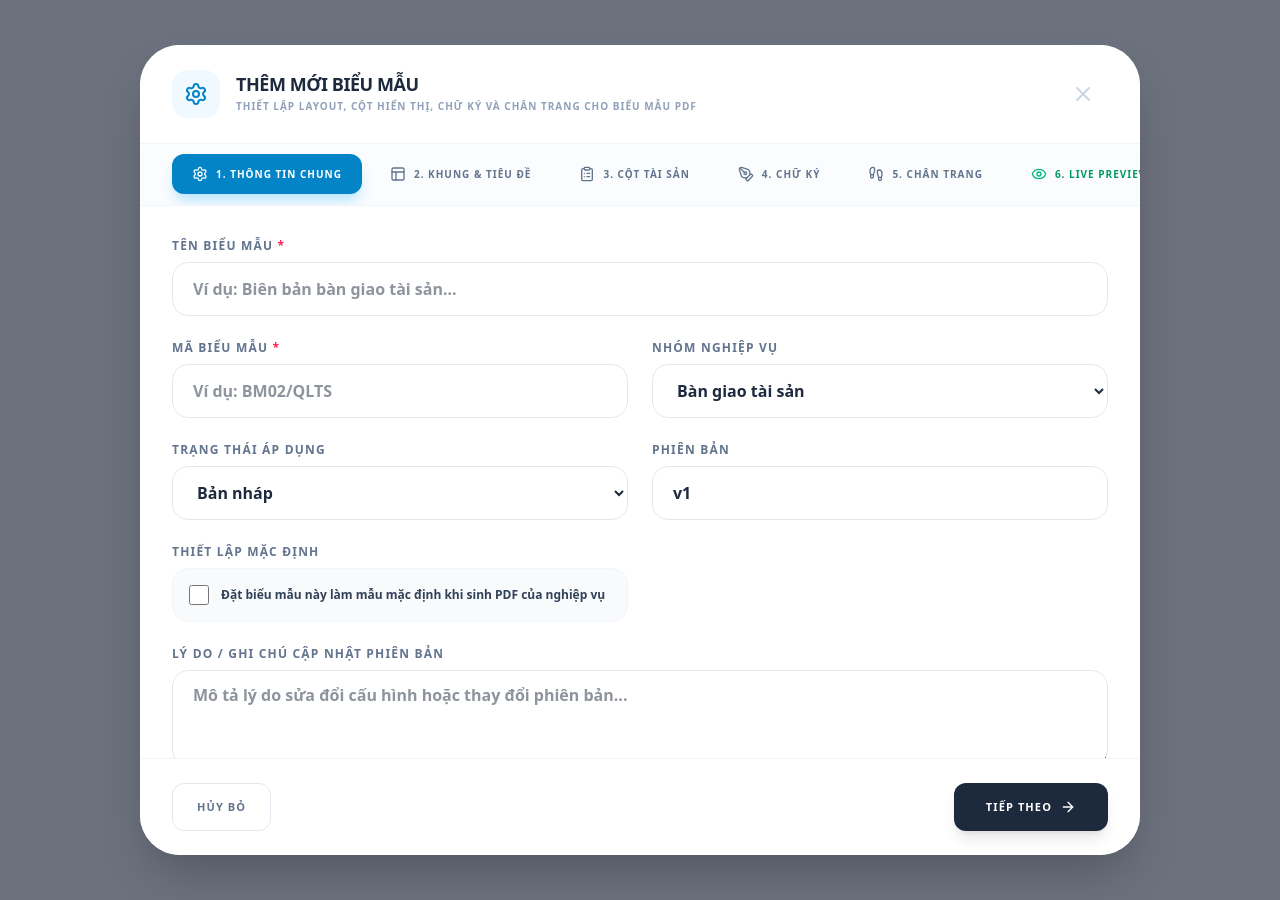
Test: TemplateConfigModal › can navigate through tabs
Click Tab 2
Click the button "2. Khung & Tiêu đề" at (461, 174), box [370,154,551,194]
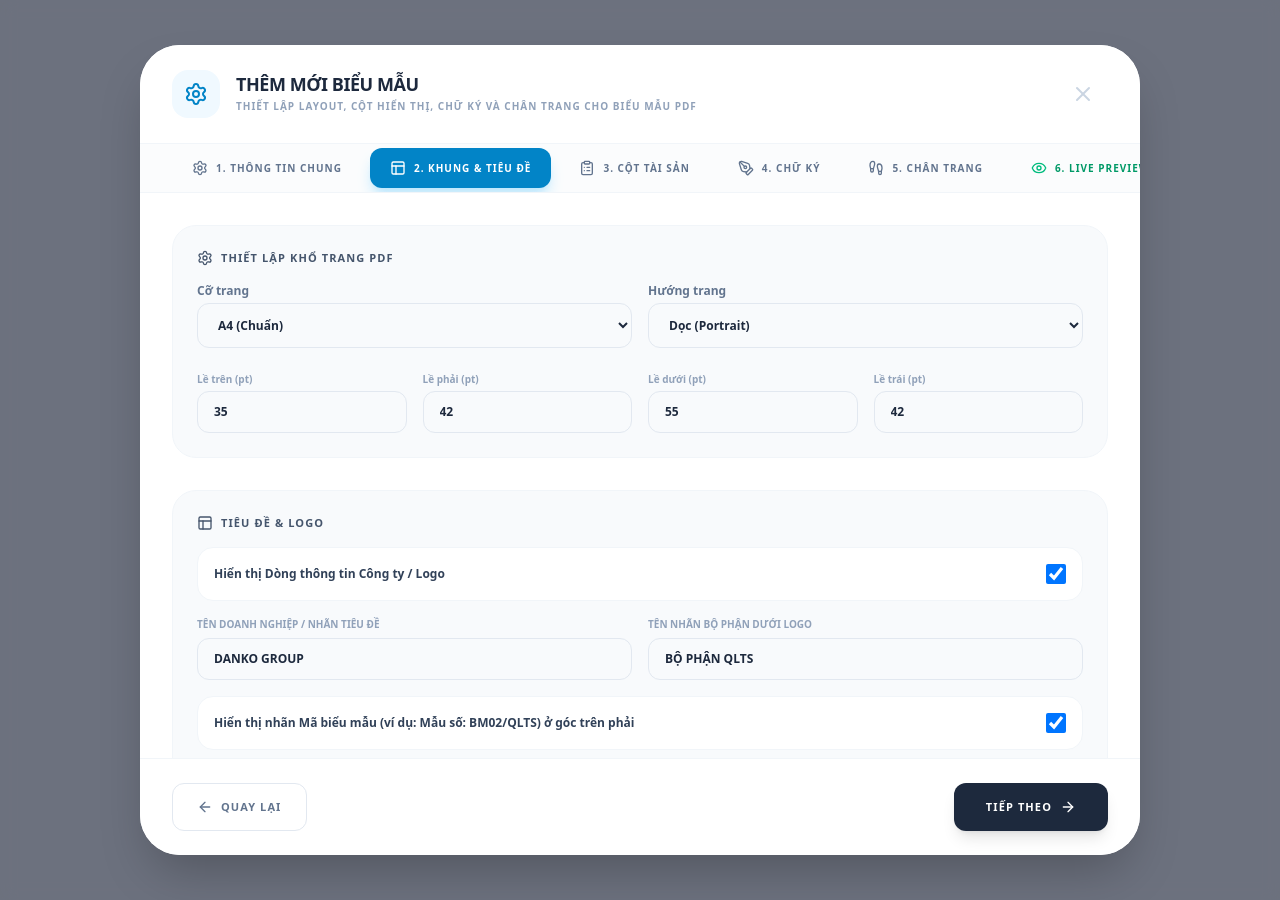
Expected: the heading "Thiết lập khổ trang PDF" is shown, [221,250,394,265]
Click Tab 3
Click the button "3. Cột tài sản" at (635, 168), box [559,148,710,188]
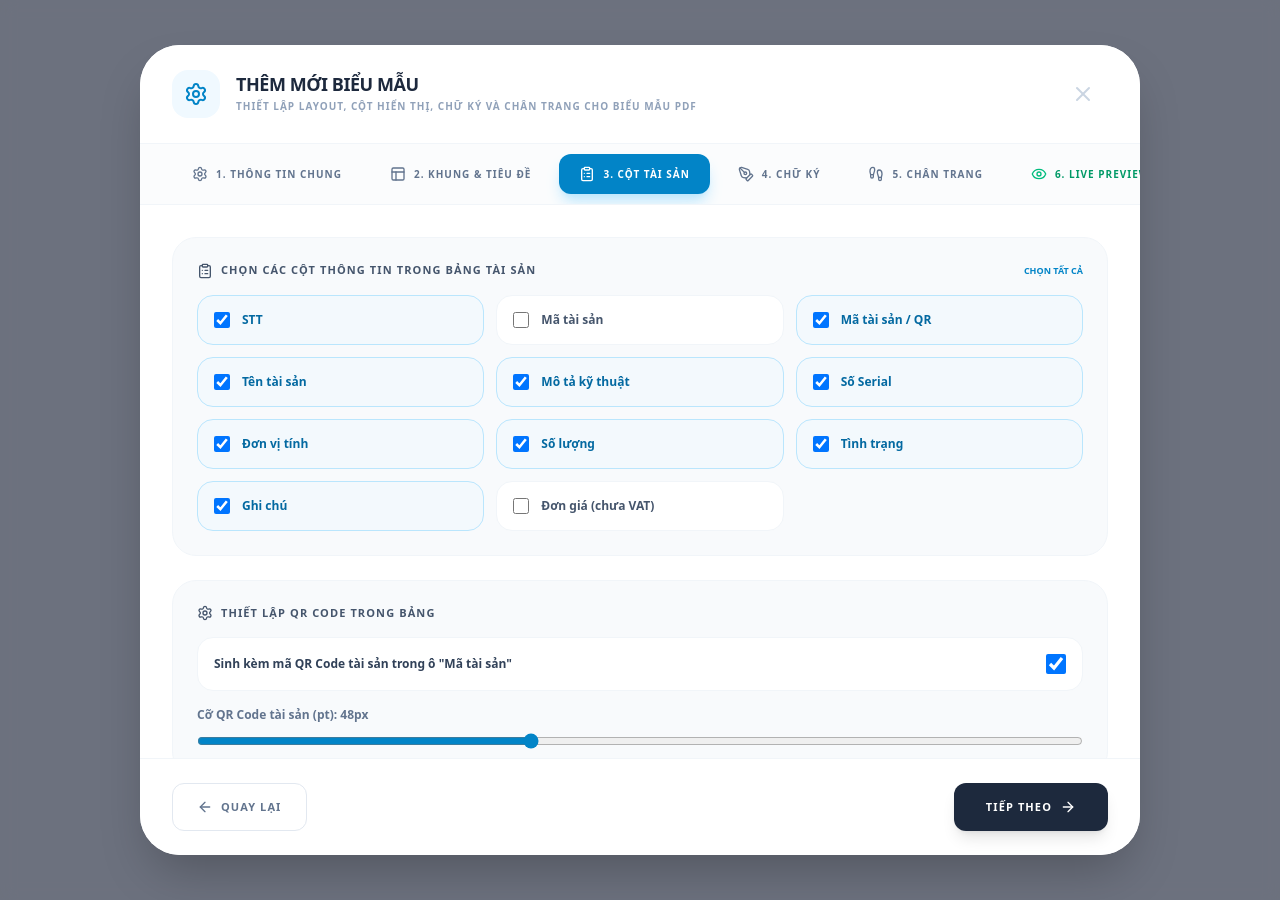
Expected: the heading "Chọn các cột thông tin trong bảng tài sản" is shown, [221,262,536,277]
